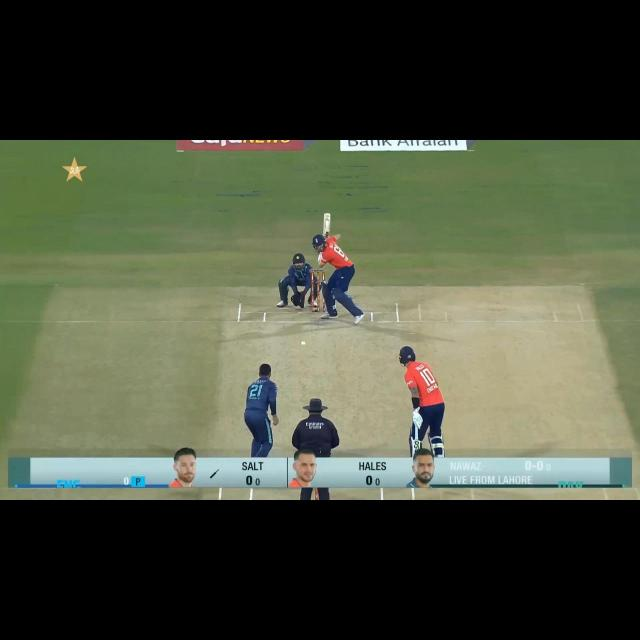bat: (322, 211, 331, 240), (412, 440, 420, 456)
toe: (321, 212, 333, 218)
